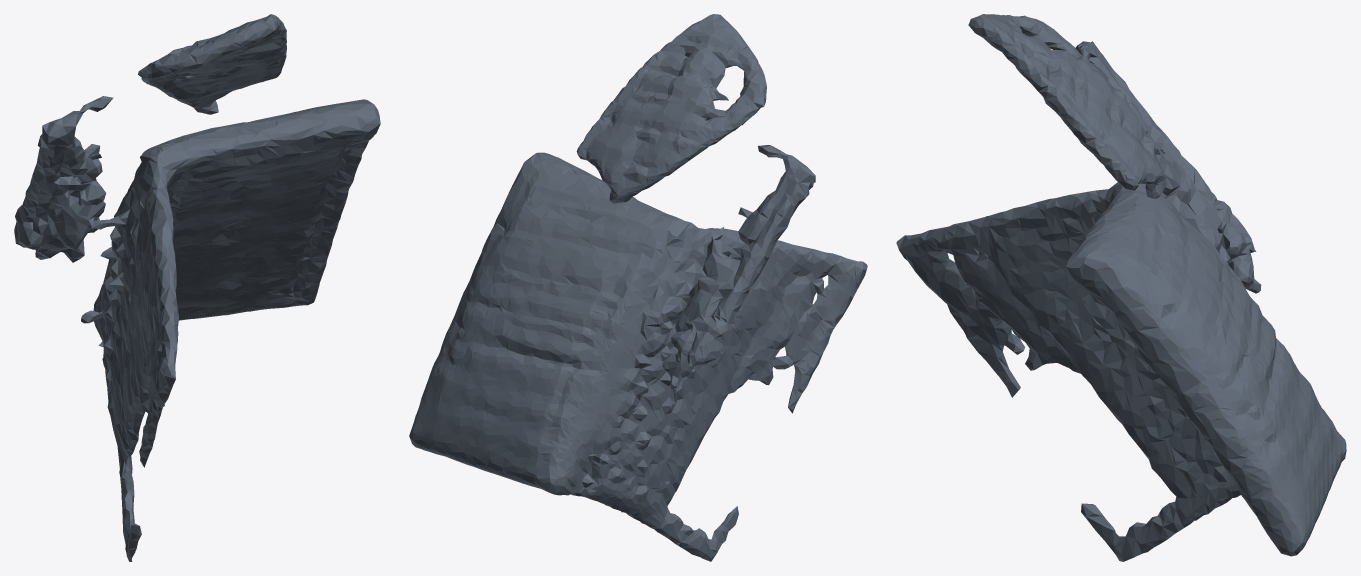
File: improved.glb
The picture shows the model from 3 angles, left to right: view 1: azimuth 30°, elevation 25°; view 2: azimuth 150°, elevation 25°; view 3: azimuth 270°, elevation 25°; orthographic projection. The views are drawn at different scales.
Visible parts, largest first — view 1: world; view 2: world; view 3: world.
Part boxes in pixels (x1,y1,x2,y2): world: (14,14,380,561); world: (409,14,867,561); world: (896,14,1346,561).
Bounding box in the file's own units: 0.25 × 0.3721 × 0.2625.
